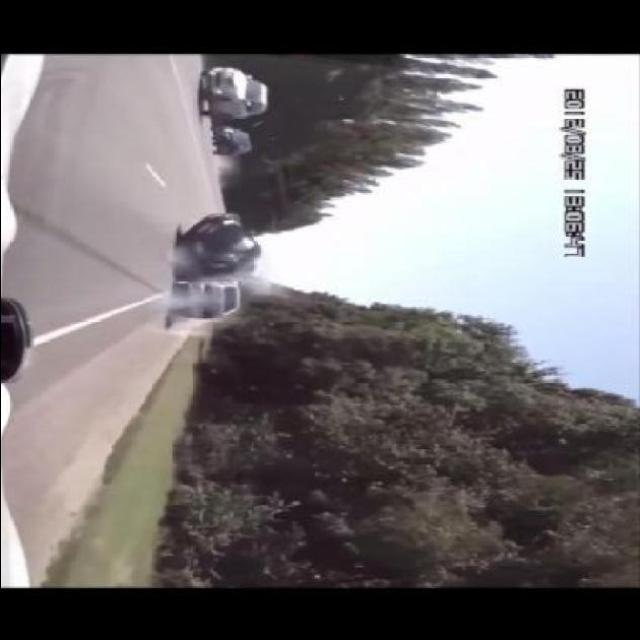accident: (155, 205, 273, 329)
